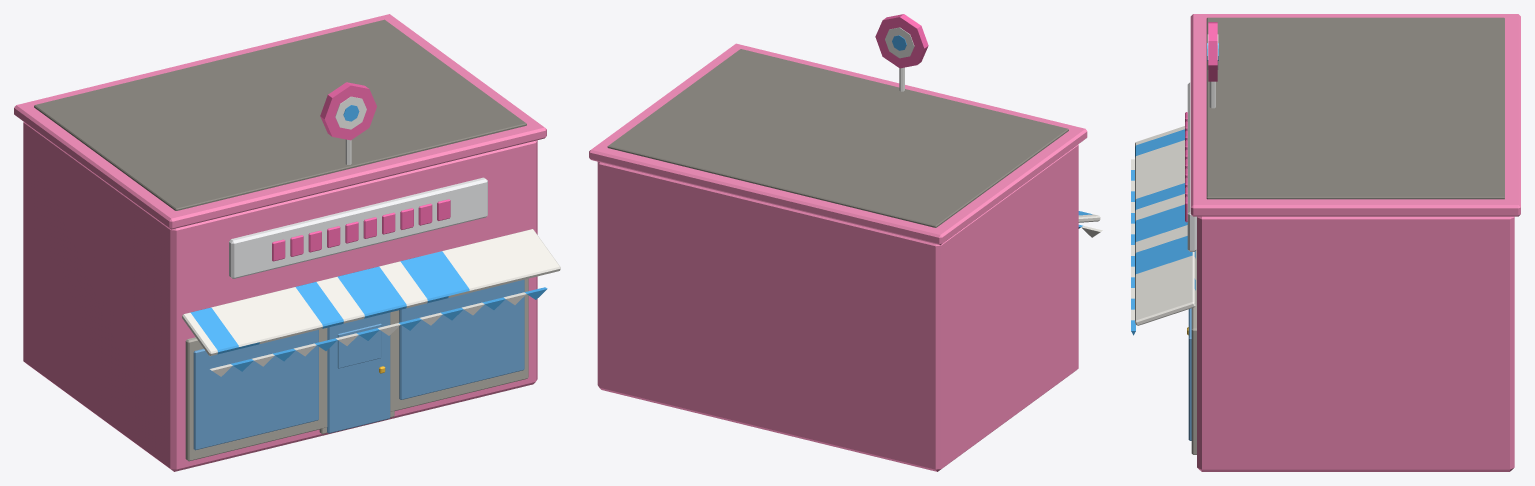
Rendered from CandyShop.fbx.
3 views of the same model, side by side, from view 1: azimuth 30°, elevation 25°; view 2: azimuth 150°, elevation 25°; view 3: azimuth 270°, elevation 25° (orthographic). The views are drawn at different scales.
Visible parts, largest first — view 1: CandyShop; view 2: CandyShop; view 3: CandyShop.
Part boxes in pixels (x1,y1,x2,y2): CandyShop: [14, 14, 560, 471]; CandyShop: [589, 14, 1102, 471]; CandyShop: [1131, 14, 1520, 471].
Bounding box in the file's own units: 14.4 × 12.4 × 12.28.
1 material, 1 textured.
